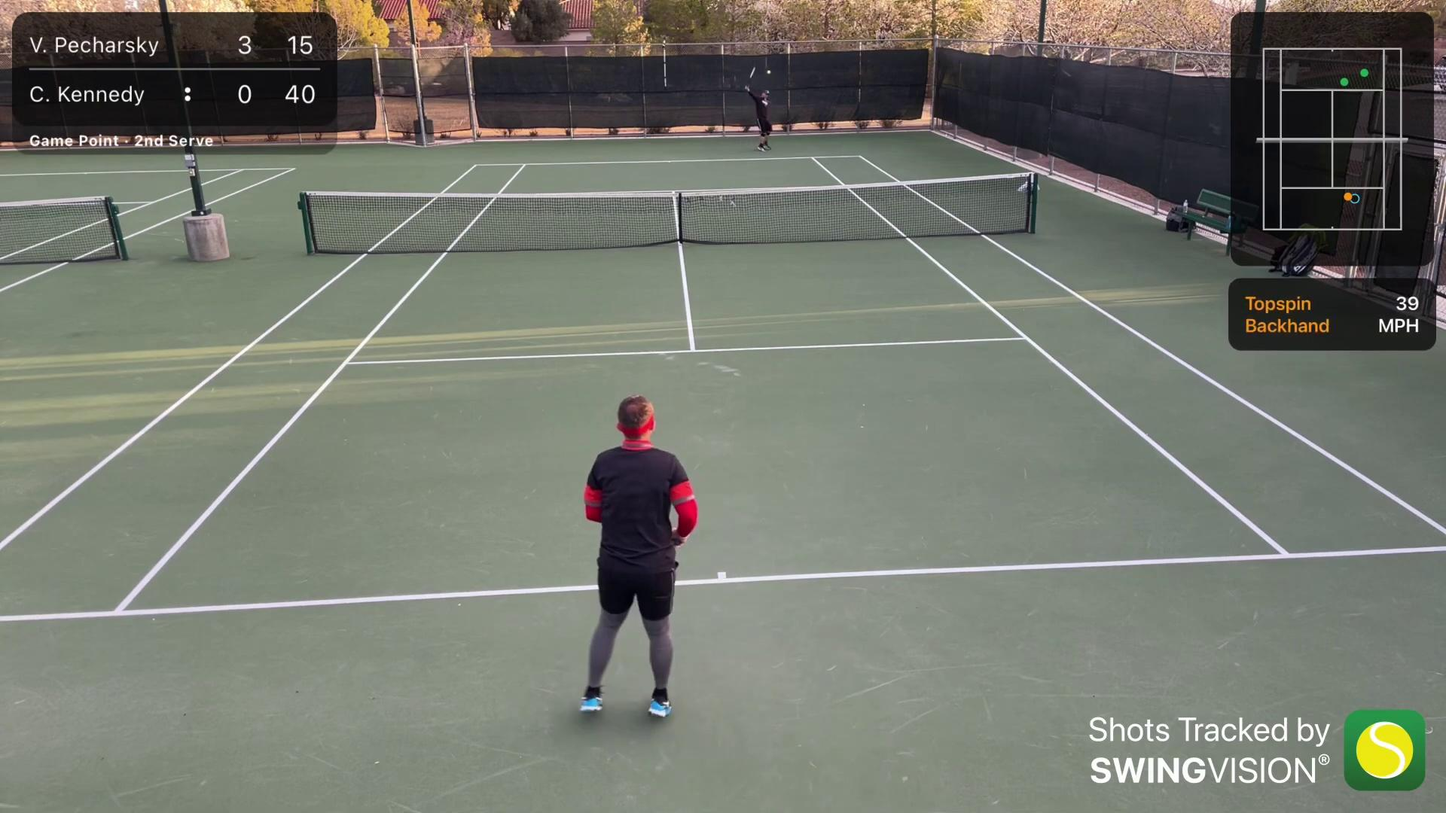ball: (766, 70, 772, 74)
